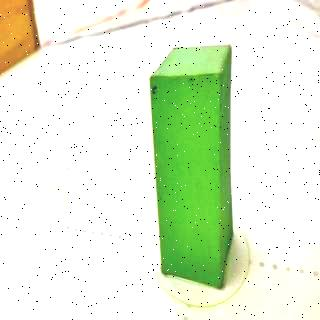greenbox: (148, 44, 232, 290)
